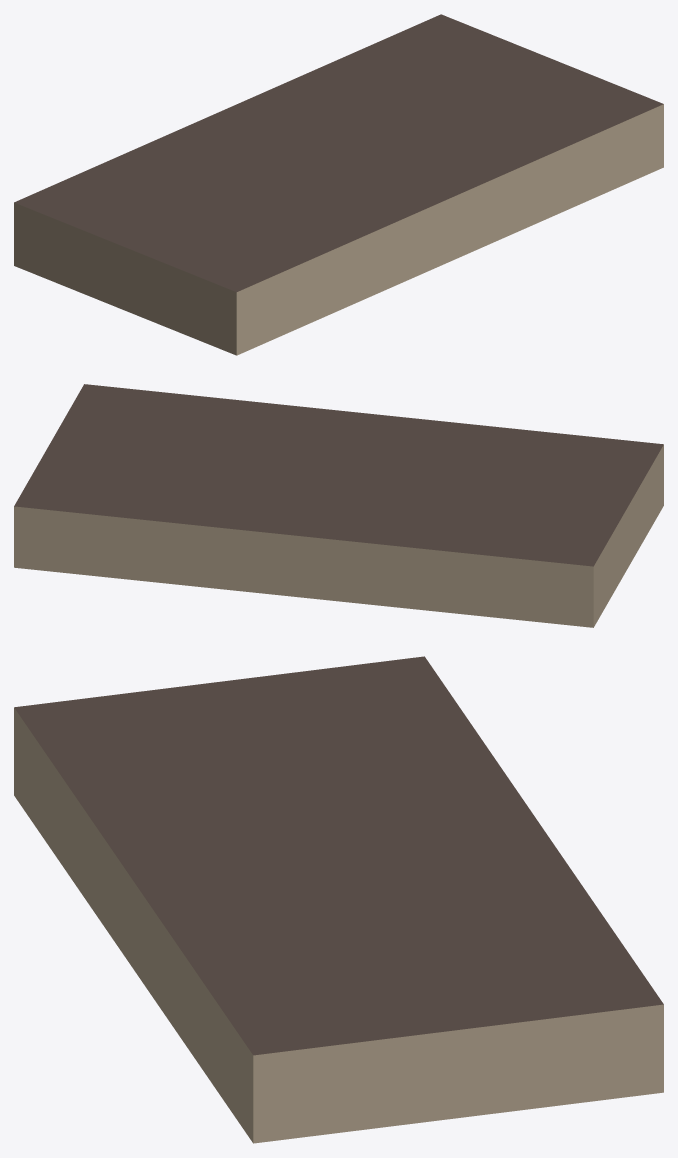
3 renders of one model, top to bottom at view 1: azimuth 30°, elevation 25°; view 2: azimuth 150°, elevation 25°; view 3: azimuth 270°, elevation 25°, orthographic. The views are drawn at different scales.
Parts seen in each view (by area): view 1: HP-w372180467; view 2: HP-w372180467; view 3: HP-w372180467.
Boxes of the visible parts, x1,y1,x2,y2 form: HP-w372180467: [14, 14, 663, 355]; HP-w372180467: [14, 384, 663, 627]; HP-w372180467: [14, 656, 663, 1143].
Bounding box in the file's own units: 58.28 × 6 × 40.11.
